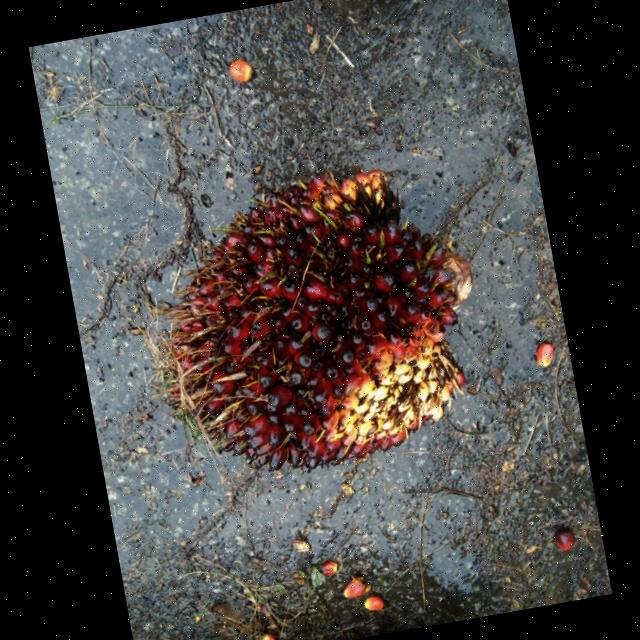Ripe: (165, 169, 472, 469)
